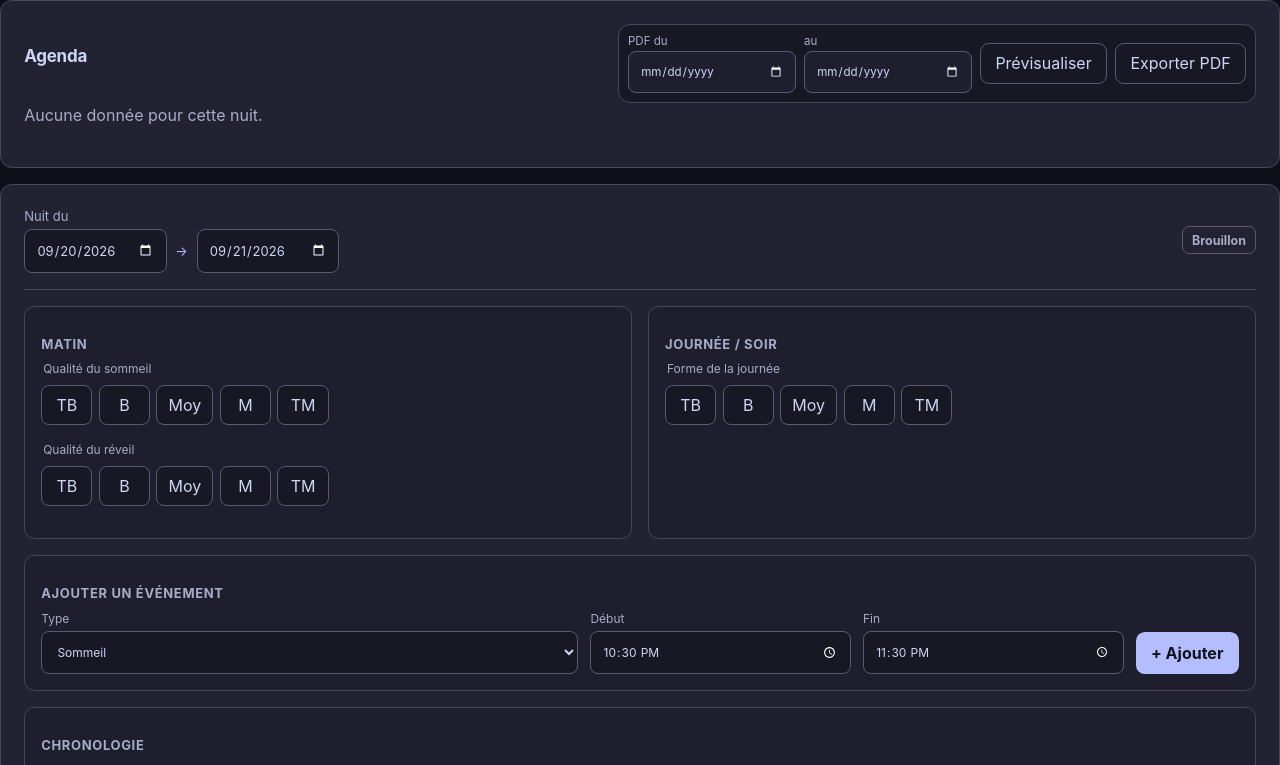
Test: SleepDiaryWorkspace › serializes autosaves so the next mutation uses the returned revision
Select "Mise au lit" in the dropdown with test id "sleep-event-type" at (310, 652), box 41,631 -> 578,674
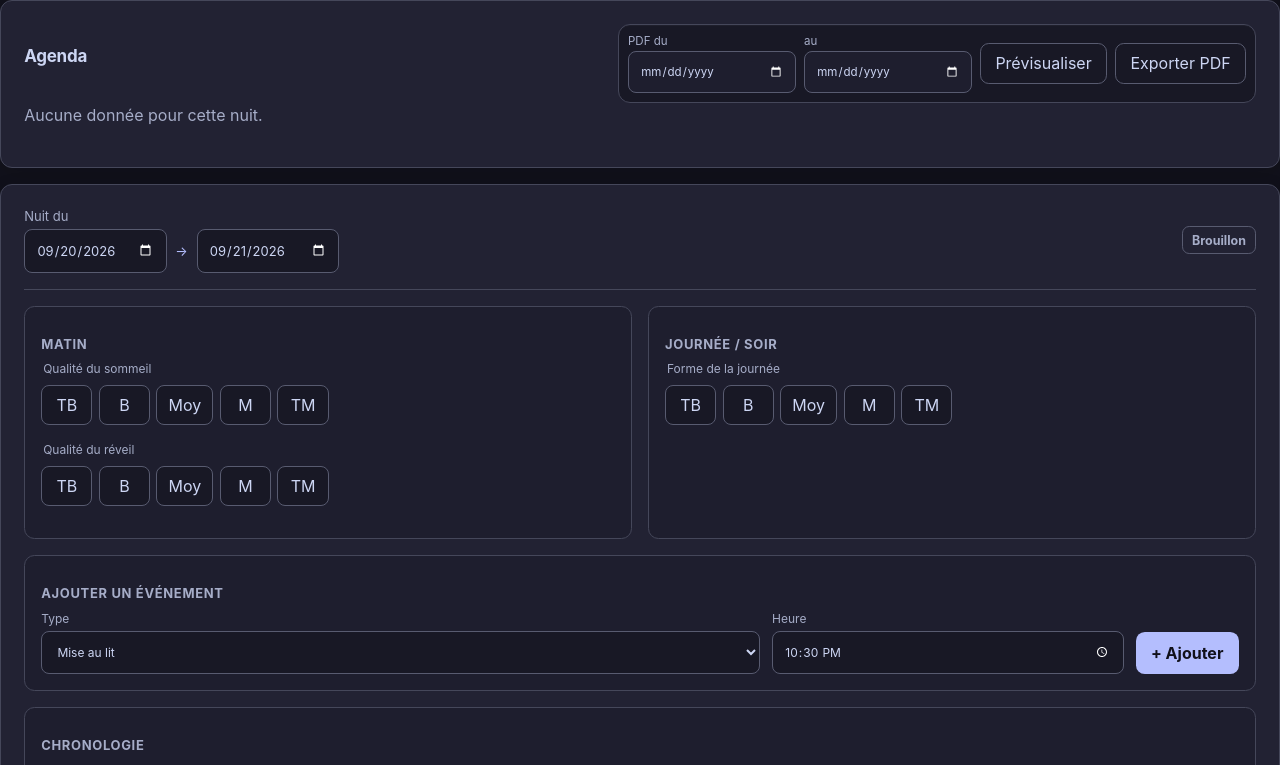
Click the button with test id "sleep-add-event".
click(1187, 653)  # box 1136,632 -> 1239,674
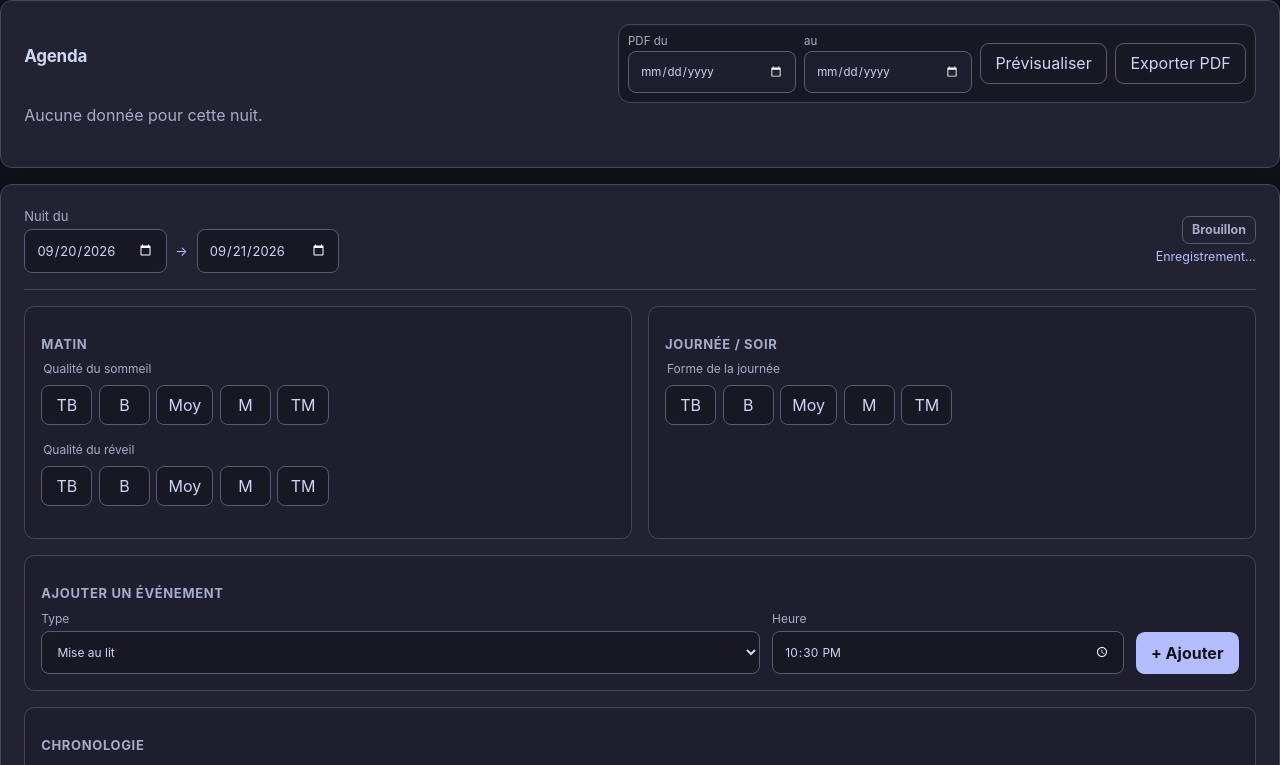
Select "Sommeil" in the dropdown with test id "sleep-event-type" at (401, 652), box 41,631 -> 760,674
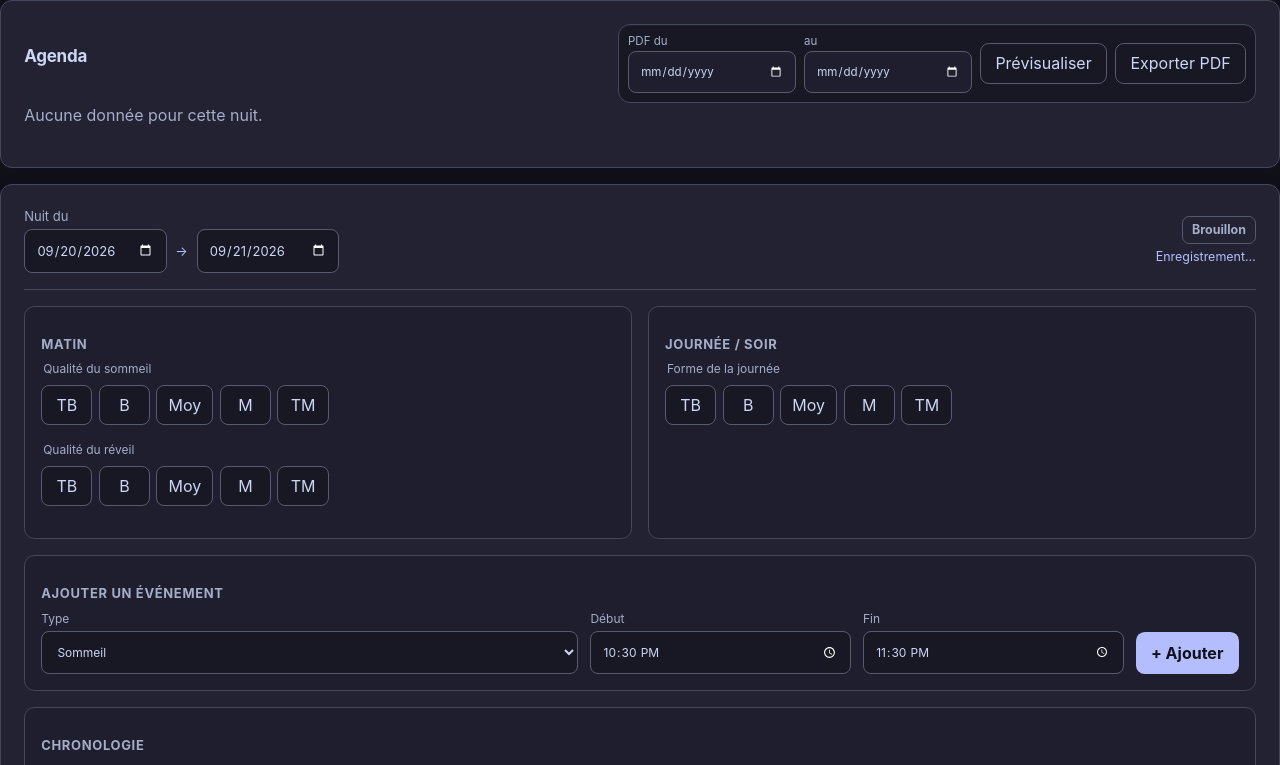
Click the button with test id "sleep-add-event".
click(1187, 653)  # box 1136,632 -> 1239,674
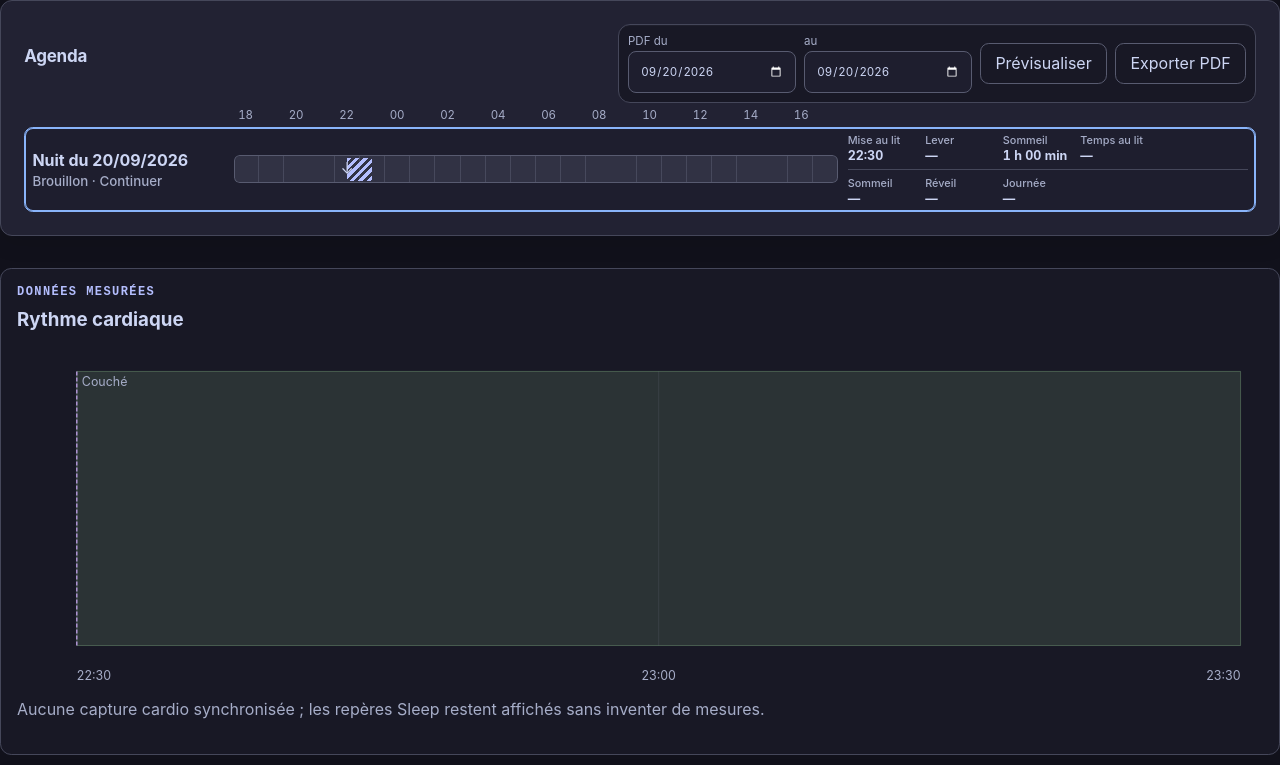
Result: the icon with test id "sleep-agenda-event-sleep" is shown at 347,158 -> 372,181
